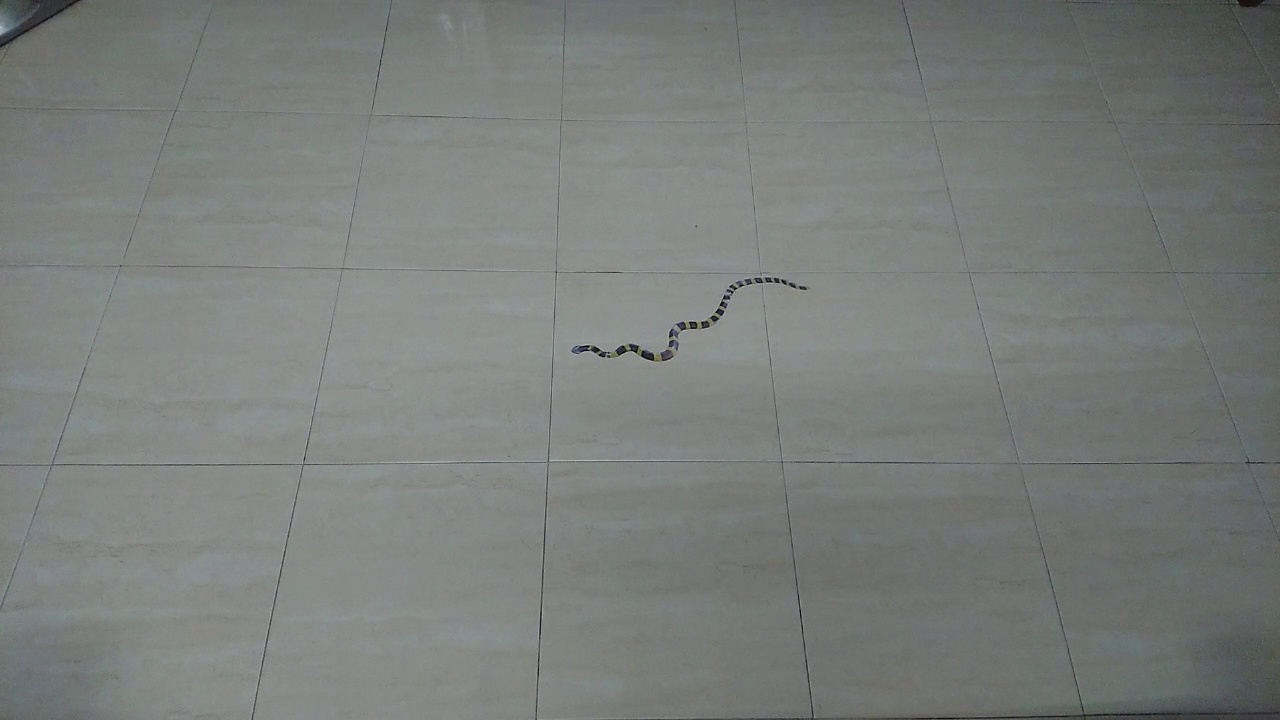snake: (559, 265, 826, 376)
